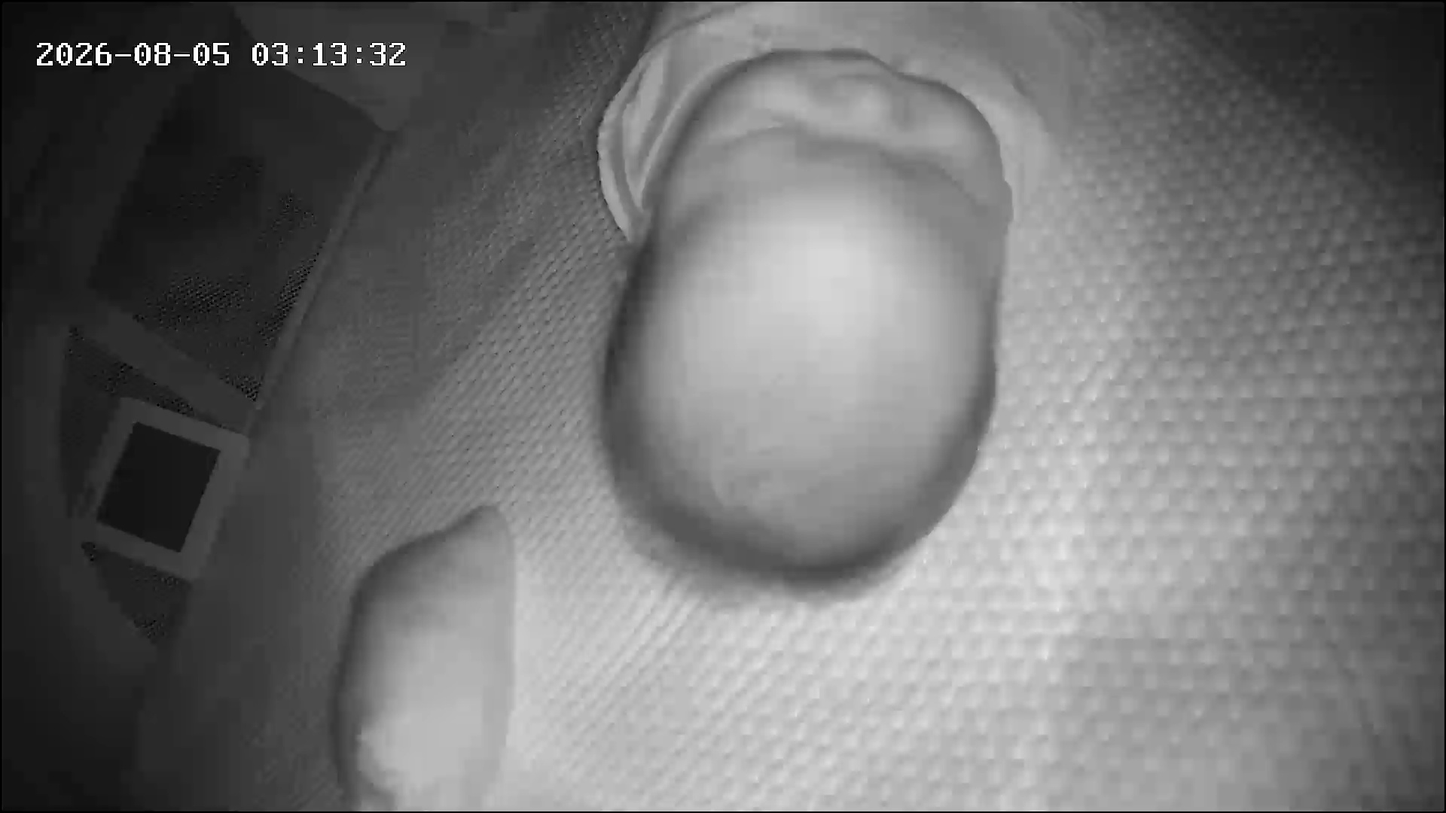baby: (113, 0, 1059, 614), (544, 2, 1081, 613)
baby_face: (586, 38, 1021, 596)
